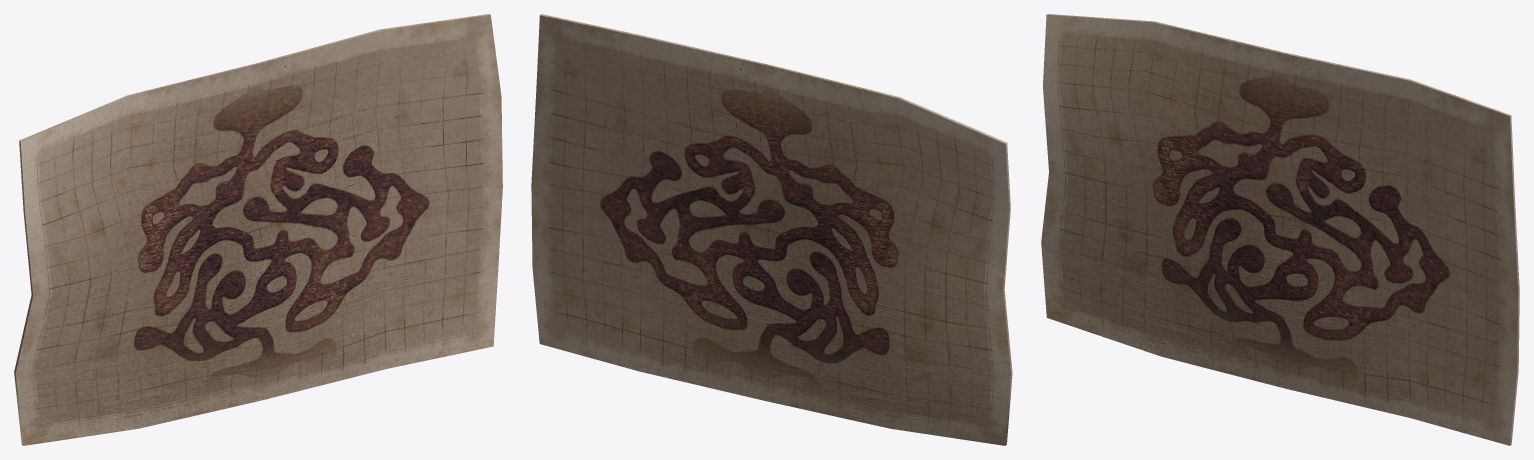
Rendered from MapModel.fbx.
3 renders of one model, left to right at view 1: azimuth 30°, elevation 25°; view 2: azimuth 150°, elevation 25°; view 3: azimuth 330°, elevation 25°, orthographic.
Parts seen in each view (by area): view 1: 平面; view 2: 平面; view 3: 平面.
Boxes of the visible parts, box(x1,y1,x2,y2) form: 平面: box(14, 14, 502, 445); 平面: box(531, 14, 1012, 445); 平面: box(1041, 14, 1519, 445).
Bounding box in the file's own units: 34.51 × 23.04 × 1.29.
